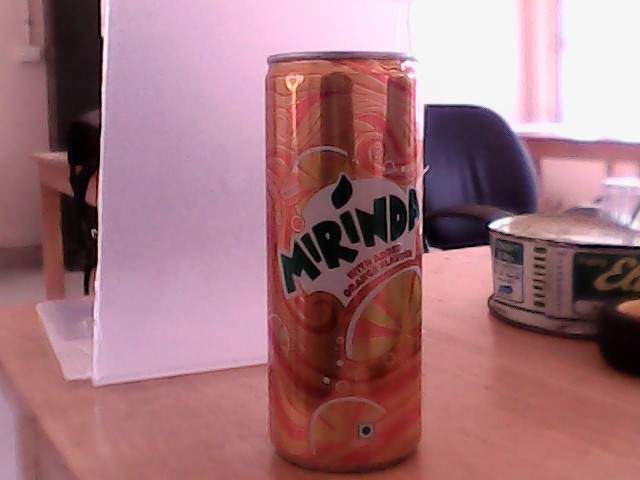Metal: (248, 57, 437, 480)
